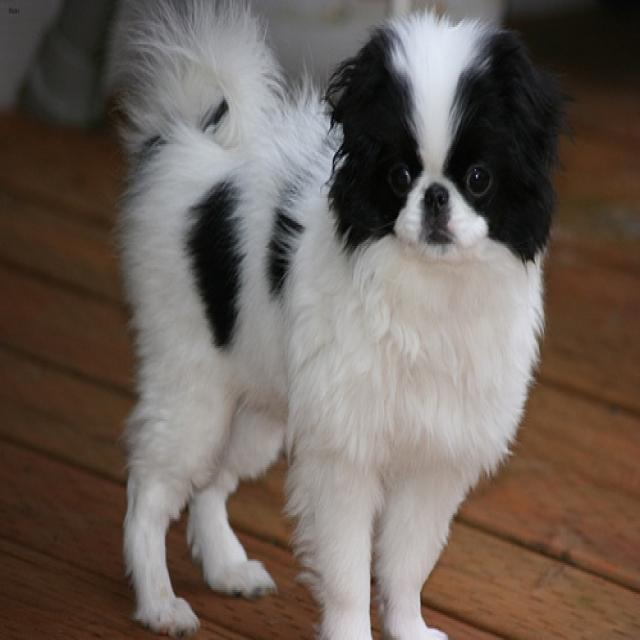dog-japanese_chin: (97, 2, 580, 636)
